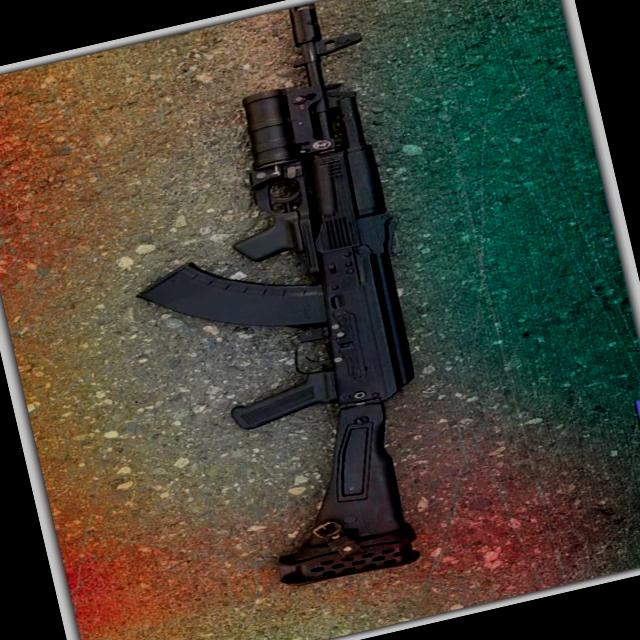long weapon: (116, 0, 486, 616)
